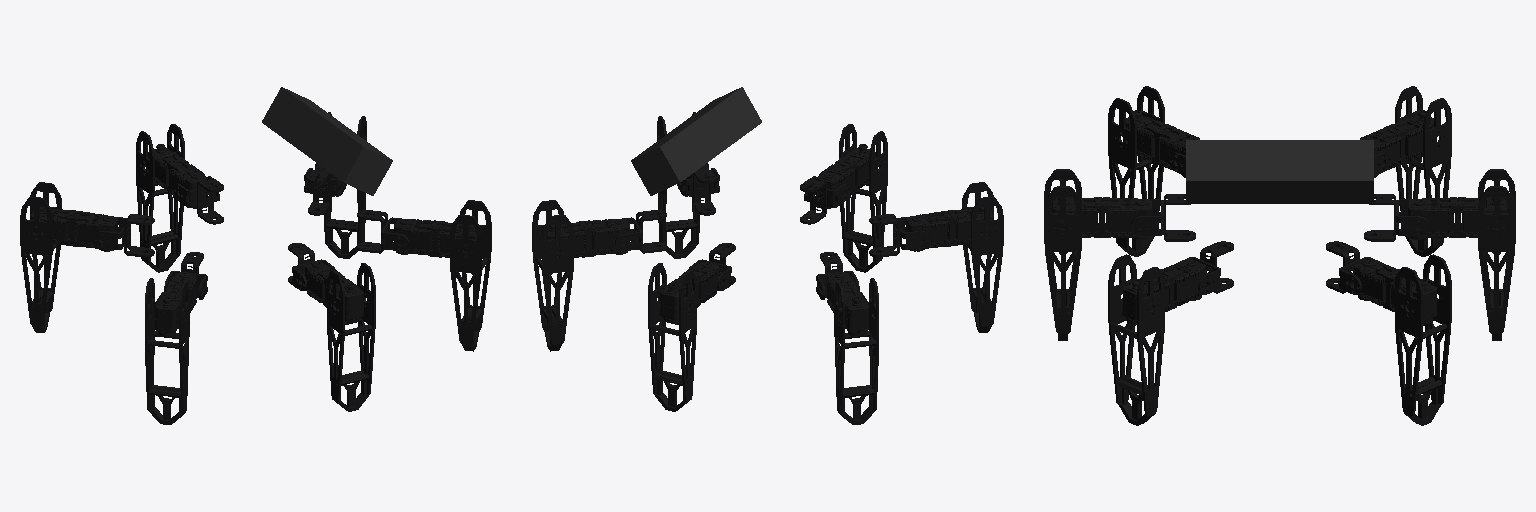
--- What the picture shows (computed from the rendered views, not written in the file) ---
The picture shows the robot from 3 angles, left to right: view 1: azimuth 30°, elevation 25°; view 2: azimuth 150°, elevation 25°; view 3: azimuth 270°, elevation 25°; orthographic projection.
Model phantomx with 28 links and 27 joints (18 revolute, 9 fixed), rooted at root_link, posed all joints at 0.
Links seen in each view (by area): view 1: kinect_link, BR_tibia_link, AR_tibia_link, CL_tibia_link, BL_tibia_link, CR_tibia_link, CL_femur_link, AR_femur_link, BR_femur_link, BL_femur_link, CR_femur_link, AL_tibia_link (+6 smaller); view 2: kinect_link, BL_tibia_link, AL_tibia_link, CR_tibia_link, BR_tibia_link, CL_tibia_link, CR_femur_link, AL_femur_link, BL_femur_link, BR_femur_link, CL_femur_link, AR_tibia_link (+6 smaller); view 3: kinect_link, AL_tibia_link, AR_tibia_link, BL_tibia_link, BR_tibia_link, CR_tibia_link, CL_tibia_link, BL_femur_link, BR_femur_link, AR_femur_link, AL_femur_link, CL_femur_link (+5 smaller).
Link boxes in pixels (left/top/right/bottom): kinect_link: left=262, top=87, right=392, bottom=195; BR_tibia_link: left=327, top=263, right=375, bottom=411; AR_tibia_link: left=450, top=200, right=491, bottom=351; CL_tibia_link: left=20, top=182, right=61, bottom=332; BL_tibia_link: left=136, top=124, right=184, bottom=272; CR_tibia_link: left=145, top=278, right=189, bottom=424; CL_femur_link: left=30, top=207, right=117, bottom=251; AR_femur_link: left=394, top=219, right=481, bottom=257; BR_femur_link: left=305, top=262, right=363, bottom=324; BL_femur_link: left=148, top=144, right=206, bottom=208; CR_femur_link: left=155, top=273, right=196, bottom=336; AL_tibia_link: left=323, top=112, right=366, bottom=258; kinect_link: left=631, top=87, right=761, bottom=195; BL_tibia_link: left=648, top=263, right=696, bottom=411; AL_tibia_link: left=532, top=200, right=573, bottom=351; CR_tibia_link: left=962, top=182, right=1003, bottom=332; BR_tibia_link: left=839, top=124, right=887, bottom=272; CL_tibia_link: left=834, top=278, right=878, bottom=424; CR_femur_link: left=906, top=207, right=993, bottom=251; AL_femur_link: left=542, top=219, right=629, bottom=257; BL_femur_link: left=660, top=262, right=718, bottom=323; BR_femur_link: left=817, top=144, right=875, bottom=208; CL_femur_link: left=827, top=273, right=868, bottom=337; AR_tibia_link: left=657, top=112, right=700, bottom=258; kinect_link: left=1186, top=140, right=1373, bottom=203; AL_tibia_link: left=1395, top=254, right=1451, bottom=425; AR_tibia_link: left=1108, top=254, right=1164, bottom=425; BL_tibia_link: left=1478, top=169, right=1515, bottom=340; BR_tibia_link: left=1044, top=169, right=1081, bottom=340; CR_tibia_link: left=1108, top=86, right=1164, bottom=256; CL_tibia_link: left=1395, top=86, right=1451, bottom=256; BL_femur_link: left=1408, top=197, right=1507, bottom=239; BR_femur_link: left=1052, top=197, right=1151, bottom=239; AR_femur_link: left=1122, top=259, right=1205, bottom=324; AL_femur_link: left=1354, top=259, right=1437, bottom=325; CL_femur_link: left=1360, top=110, right=1436, bottom=177.
Bounding box of the posed robot: 0.4861 × 0.502 × 0.2768 m (x, y, z).
18 mesh visuals loaded from 4 distinct referenced files (3 binary STL); not drawn: 1 (reference not matched to a file when rendering).

The robot description file, URDF, robot "phantomx":
<?xml version="1.0" ?>
<!-- =================================================================================== -->
<!-- |    This document was autogenerated by xacro from phantomx.xacro                 | -->
<!-- |    EDITING THIS FILE BY HAND IS NOT RECOMMENDED                                 | -->
<!-- =================================================================================== -->
<robot name="phantomx" xmlns:xacro="http://ros.org/wiki/xacro">
  <!-- ros_control plugin -->
  <gazebo>
    <plugin filename="libgazebo_ros_control.so" name="gazebo_ros_control">
      <!--robotNamespace>/phantomx</robotNamespace-->
      <robotSimType>gazebo_ros_control/DefaultRobotHWSim</robotSimType>
    </plugin>
  </gazebo>
  <!-- Base link -->
  <gazebo reference="base_link">
    <material>Gazebo/Black</material>
  </gazebo>
  <material name="black">
    <color rgba="0.13 0.13 0.13 1.0"/>
  </material>
  <material name="blue">
    <color rgba="0.0 0.0 0.8 1.0"/>
  </material>
  <material name="green">
    <color rgba="0.0 0.8 0.0 1.0"/>
  </material>
  <material name="grey">
    <color rgba="0.2 0.2 0.2 1.0"/>
  </material>
  <material name="orange">
    <color rgba="1.0 0.423529411765 0.0392156862745 1.0"/>
  </material>
  <material name="brown">
    <color rgba="0.870588235294 0.811764705882 0.764705882353 1.0"/>
  </material>
  <material name="red">
    <color rgba="0.8 0.0 0.0 1.0"/>
  </material>
  <material name="white">
    <color rgba="1.0 1.0 1.0 1.0"/>
  </material>
  <!-- Add a kinect sensor : first the visual/collision/inertial box -->
  <link name="kinect_link">
    <collision>
      <origin rpy="0 0 0" xyz="0 0 0"/>
      <geometry>
        <!-- coarse model; a simple box -->
        <box size="0.05 0.2 0.05"/>
      </geometry>
    </collision>
    <visual>
      <origin rpy="0 0 0" xyz="0 0 0"/>
      <geometry>
        <box size="0.05 0.2 0.05"/>
      </geometry>
      <material name="kinect_gray">
        <color rgba="0.2 0.2 0.2 1.0"/>
      </material>
    </visual>
    <inertial>
      <mass value="0.1"/>
      <origin rpy="0 0 0" xyz="0 0 0"/>
      <inertia ixx="0.001" ixy="0" ixz="0" iyy="0.001" iyz="0" izz="0.001"/>
    </inertial>
  </link>
  <!-- Position and orientation of the kinect sensor -->
  <joint name="kinect_joint" type="fixed">
    <axis xyz="0 1 0"/>
    <origin rpy="0.0 0.6 0" xyz="0.1 0.0 0.1"/>
    <parent link="base_link"/>
    <child link="kinect_link"/>
  </joint>
  <joint name="camera_optical_joint" type="fixed">
    <!--Don't change these values, otherwise the gazebo camera image won't be aligned properly with the frame it is supposedly originating from-->
    <origin rpy="-1.57079632679 0 -1.57079632679" xyz="0 0 0"/>
    <parent link="kinect_link"/>
    <child link="camera_link_optical"/>
  </joint>
  <link name="camera_link_optical">
	</link>
  <!--Add kinect sensor emulation-->
  <gazebo reference="kinect_link">
    <sensor name="camera_1" type="depth">
      <always_on>1</always_on>
      <visualize>true</visualize>
      <camera>
        <horizontal_fov>1.047</horizontal_fov>
        <image>
          <width>640</width>
          <height>480</height>
          <format>R8G8B8</format>
        </image>
        <depth_camera>
				</depth_camera>
        <clip>
          <near>0.1</near>
          <far>100</far>
        </clip>
      </camera>
      <plugin filename="libgazebo_ros_openni_kinect.so" name="camera_controller">
        <alwaysOn>true</alwaysOn>
        <updateRate>10.0</updateRate>
        <cameraName>kinect</cameraName>
        <frameName>camera_link_optical</frameName>
        <imageTopicName>rgb/image_raw</imageTopicName>
        <depthImageTopicName>depth/image_raw</depthImageTopicName>
        <pointCloudTopicName>depth/points</pointCloudTopicName>
        <cameraInfoTopicName>rgb/camera_info</cameraInfoTopicName>
        <depthImageCameraInfoTopicName>depht/camera_info</depthImageCameraInfoTopicName>
        <pointCloudCutoff>0.4</pointCloudCutoff>
        <hackBaseline>0.07</hackBaseline>
        <distortionK1>0.0</distortionK1>
        <distortionK2>0.0</distortionK2>
        <distortionK3>0.0</distortionK3>
        <distortionT1>0.0</distortionT1>
        <distortionT2>0.0</distortionT2>
        <CxPrime>0.0</CxPrime>
        <Cx>0.0</Cx>
        <Cy>0.0</Cy>
        <focalLength>0.0</focalLength>
      </plugin>
    </sensor>
  </gazebo>
  <!-- Root link -->
  <link name="root_link"/>
  <!-- Base link -->
  <link name="base_link">
    <visual>
      <geometry>
        <mesh filename="package://phantomx_description/meshes/base_link.stl"/>
      </geometry>
      <origin rpy="0 0 0" xyz="0 0 0"/>
      <material name="black"/>
    </visual>
    <collision>
      <geometry>
        <mesh filename="package://phantomx_description/meshes/base_link_simple.stl"/>
      </geometry>
      <origin rpy="0 0 0" xyz="0 0 0"/>
    </collision>
    <inertial>
      <origin xyz="0 0 0"/>
      <mass value="0.97559947"/>
      <inertia ixx="3.1081800" ixy="-0.25460189" ixz="2.0318174" iyy="6.3787776" iyz="0.16417863" izz="5.3316425"/>
    </inertial>
  </link>
  <joint name="root_joint" type="fixed">
    <parent link="root_link"/>
    <child link="base_link"/>
    <origin xyz="0 0 0"/>
  </joint>
  <link name="AL_coxa_link">
    <visual>
      <geometry>
        <mesh filename="package://phantomx_description/meshes/coxa_link.STL"/>
      </geometry>
      <origin rpy="0 0 0" xyz="0 0 0"/>
      <material name="black"/>
    </visual>
    <collision>
      <geometry>
        <mesh filename="package://phantomx_description/meshes/coxa_link_simple.STL"/>
      </geometry>
      <origin rpy="0 0 0" xyz="0 0 0"/>
    </collision>
    <inertial>
      <origin xyz="0.024001547 0 0"/>
      <mass value="0.01096414"/>
      <inertia ixx="0.01" ixy="0.0" ixz="0.0" iyy="0.01" iyz="0.0" izz="0.01"/>
    </inertial>
  </link>
  <link name="AL_femur_link">
    <visual>
      <geometry>
        <mesh filename="package://phantomx_description/meshes/femur_link.STL"/>
      </geometry>
      <origin rpy="0 0 0" xyz="0 0 0"/>
      <material name="black"/>
    </visual>
    <collision>
      <geometry>
        <mesh filename="package://phantomx_description/meshes/femur_link_simple.STL"/>
      </geometry>
      <origin rpy="0 0 0" xyz="0 0 0"/>
    </collision>
    <inertial>
      <origin xyz="0.04208275 0.00000123 -0.00098111"/>
      <mass value="0.12147677"/>
      <inertia ixx="0.01" ixy="0.0" ixz="0" iyy="0.01" iyz="0.0" izz="0.01"/>
    </inertial>
  </link>
  <link name="AL_tibia_link">
    <visual>
      <geometry>
        <mesh filename="package://phantomx_description/meshes/tibia_link.STL"/>
      </geometry>
      <origin rpy="0 0 0" xyz="0 0 0"/>
      <material name="black"/>
    </visual>
    <collision>
      <geometry>
        <mesh filename="package://phantomx_description/meshes/tibia_link_simple.STL"/>
      </geometry>
      <origin rpy="0 0 0" xyz="0 0 0"/>
    </collision>
    <inertial>
      <origin xyz="0.05151483 0 0"/>
      <mass value="0.03741374"/>
      <inertia ixx="0.01" ixy="0.0" ixz="0.0" iyy="0.01" iyz="0.0" izz="0.01"/>
    </inertial>
  </link>
  <link name="AL_foot_link"/>
  <joint name="AL_coxa_joint" type="revolute">
    <parent link="base_link"/>
    <child link="AL_coxa_link"/>
    <limit effort="1000.0" lower="-3.14" upper="3.14" velocity="1.0"/>
    <axis xyz="0 0 1"/>
    <origin rpy="0 0 0.7853981635" xyz="0.12 0.06 0"/>
    <dynamics damping="1.5" friction="1.5"/>
  </joint>
  <joint name="AL_femur_joint" type="revolute">
    <parent link="AL_coxa_link"/>
    <child link="AL_femur_link"/>
    <limit effort="1000.0" lower="-1.5707" upper="1.5707" velocity="1.0"/>
    <axis xyz="0 0 -1"/>
    <origin rpy="1.5707 0 0" xyz="0.048 0 0"/>
    <dynamics damping="1.5" friction="1.5"/>
  </joint>
  <joint name="AL_tibia_joint" type="revolute">
    <parent link="AL_femur_link"/>
    <child link="AL_tibia_link"/>
    <limit effort="1000.0" lower="-2.3562" upper="2.3562" velocity="1.0"/>
    <axis xyz="0 0 1"/>
    <origin rpy="0 0 -1.570796327" xyz="0.083 0 0"/>
    <dynamics damping="1.5" friction="1.5"/>
  </joint>
  <joint name="AL_foot_joint" type="fixed">
    <parent link="AL_tibia_link"/>
    <child link="AL_foot_link"/>
    <limit effort="1000.0" lower="-2.3562" upper="2.3562" velocity="1.0"/>
    <axis xyz="1 0 0"/>
    <origin rpy="0 0 0" xyz="0.143 0 0"/>
  </joint>
  <transmission name="tran_AL_coxa">
    <type>transmission_interface/SimpleTransmission</type>
    <joint name="AL_coxa_joint">
      <hardwareInterface>hardware_interface/EffortJointInterface</hardwareInterface>
    </joint>
    <actuator name="motor_AL_coxa">
      <hardwareInterface>hardware_interface/EffortJointInterface</hardwareInterface>
      <mechanicalReduction>50</mechanicalReduction>
    </actuator>
  </transmission>
  <transmission name="tran_AL_femur">
    <type>transmission_interface/SimpleTransmission</type>
    <joint name="AL_femur_joint">
      <hardwareInterface>hardware_interface/EffortJointInterface</hardwareInterface>
    </joint>
    <actuator name="motor_AL_femur">
      <hardwareInterface>hardware_interface/EffortJointInterface</hardwareInterface>
      <mechanicalReduction>50</mechanicalReduction>
    </actuator>
  </transmission>
  <transmission name="tran_AL_tibia">
    <type>transmission_interface/SimpleTransmission</type>
    <joint name="AL_tibia_joint">
      <hardwareInterface>hardware_interface/EffortJointInterface</hardwareInterface>
    </joint>
    <actuator name="motor_AL_tibia">
      <hardwareInterface>hardware_interface/EffortJointInterface</hardwareInterface>
      <mechanicalReduction>50</mechanicalReduction>
    </actuator>
  </transmission>
  <gazebo reference="AL_coxa_link">
    <material>Gazebo/Black</material>
    <mu1>0.8</mu1>
    <mu2>0.6</mu2>
    <kp>100</kp>
    <kd>10</kd>
    <gravity>True</gravity>
  </gazebo>
  <gazebo reference="AL_femur_link">
    <material>Gazebo/Black</material>
    <mu1>0.8</mu1>
    <mu2>0.6</mu2>
    <kp>100</kp>
    <kd>10</kd>
    <gravity>True</gravity>
  </gazebo>
  <gazebo reference="AL_tibia_link">
    <material>Gazebo/Black</material>
    <mu1>0.8</mu1>
    <mu2>0.6</mu2>
    <kp>1000</kp>
    <kd>100</kd>
    <gravity>True</gravity>
  </gazebo>
  <gazebo reference="AL_tibia_link">
    <sensor name="AL_foot_contact_sensor" type="contact">
      <always_on>true</always_on>
      <update_rate>30</update_rate>
      <contact>
        <collision>AL_collision</collision>
      </contact>
      <plugin filename="libgazebo_ros_bumper.so" name="gripper_bumper">
        <bumperTopicName>AL_foot_contact_sensor_state</bumperTopicName>
        <frameName>AL_foot</frameName>
      </plugin>
    </sensor>
  </gazebo>
  <link name="AR_coxa_link">
    <visual>
      <geometry>
        <mesh filename="package://phantomx_description/meshes/coxa_link.STL"/>
      </geometry>
      <origin rpy="0 0 0" xyz="0 0 0"/>
      <material name="black"/>
    </visual>
    <collision>
      <geometry>
        <mesh filename="package://phantomx_description/meshes/coxa_link_simple.STL"/>
      </geometry>
      <origin rpy="0 0 0" xyz="0 0 0"/>
    </collision>
    <inertial>
      <origin xyz="0.024001547 0 0"/>
      <mass value="0.01096414"/>
      <inertia ixx="0.01" ixy="0.0" ixz="0.0" iyy="0.01" iyz="0.0" izz="0.01"/>
    </inertial>
  </link>
  <link name="AR_femur_link">
    <visual>
      <geometry>
        <mesh filename="package://phantomx_description/meshes/femur_link.STL"/>
      </geometry>
      <origin rpy="0 0 0" xyz="0 0 0"/>
      <material name="black"/>
    </visual>
    <collision>
      <geometry>
        <mesh filename="package://phantomx_description/meshes/femur_link_simple.STL"/>
      </geometry>
      <origin rpy="0 0 0" xyz="0 0 0"/>
    </collision>
    <inertial>
      <origin xyz="0.04208275 0.00000123 -0.00098111"/>
      <mass value="0.12147677"/>
      <inertia ixx="0.01" ixy="0.0" ixz="0" iyy="0.01" iyz="0.0" izz="0.01"/>
    </inertial>
  </link>
  <link name="AR_tibia_link">
    <visual>
      <geometry>
        <mesh filename="package://phantomx_description/meshes/tibia_link.STL"/>
      </geometry>
      <origin rpy="0 0 0" xyz="0 0 0"/>
      <material name="black"/>
    </visual>
    <collision>
      <geometry>
        <mesh filename="package://phantomx_description/meshes/tibia_link_simple.STL"/>
      </geometry>
      <origin rpy="0 0 0" xyz="0 0 0"/>
    </collision>
    <inertial>
      <origin xyz="0.05151483 0 0"/>
      <mass value="0.03741374"/>
      <inertia ixx="0.01" ixy="0.0" ixz="0.0" iyy="0.01" iyz="0.0" izz="0.01"/>
    </inertial>
  </link>
  <link name="AR_foot_link"/>
  <joint name="AR_coxa_joint" type="revolute">
    <parent link="base_link"/>
    <child link="AR_coxa_link"/>
    <limit effort="1000.0" lower="-3.14" upper="3.14" velocity="1.0"/>
    <axis xyz="0 0 1"/>
    <origin rpy="0 0 -0.7853981635" xyz="0.12 -0.06 0"/>
    <dynamics damping="1.5" friction="1.5"/>
  </joint>
  <joint name="AR_femur_joint" type="revolute">
    <parent link="AR_coxa_link"/>
    <child link="AR_femur_link"/>
    <limit effort="1000.0" lower="-1.5707" upper="1.5707" velocity="1.0"/>
    <axis xyz="0 0 1"/>
    <origin rpy="1.5707 0 0" xyz="0.048 0 0"/>
    <dynamics damping="1.5" friction="1.5"/>
  </joint>
  <joint name="AR_tibia_joint" type="revolute">
    <parent link="AR_femur_link"/>
    <child link="AR_tibia_link"/>
    <limit effort="1000.0" lower="-2.3562" upper="2.3562" velocity="1.0"/>
    <axis xyz="0 0 -1"/>
    <origin rpy="0 0 -1.570796327" xyz="0.083 0 0"/>
    <dynamics damping="1.5" friction="1.5"/>
  </joint>
  <joint name="AR_foot_joint" type="fixed">
    <parent link="AR_tibia_link"/>
    <child link="AR_foot_link"/>
    <limit effort="1000.0" lower="-2.3562" upper="2.3562" velocity="1.0"/>
    <axis xyz="1 0 0"/>
    <origin rpy="0 0 0" xyz="0.143 0 0"/>
  </joint>
  <transmission name="tran_AR_coxa">
    <type>transmission_interface/SimpleTransmission</type>
    <joint name="AR_coxa_joint">
      <hardwareInterface>hardware_interface/EffortJointInterface</hardwareInterface>
    </joint>
    <actuator name="motor_AR_coxa">
      <hardwareInterface>hardware_interface/EffortJointInterface</hardwareInterface>
      <mechanicalReduction>50</mechanicalReduction>
    </actuator>
  </transmission>
  <transmission name="tran_AR_femur">
    <type>transmission_interface/SimpleTransmission</type>
    <joint name="AR_femur_joint">
      <hardwareInterface>hardware_interface/EffortJointInterface</hardwareInterface>
    </joint>
    <actuator name="motor_AR_femur">
      <hardwareInterface>hardware_interface/EffortJointInterface</hardwareInterface>
      <mechanicalReduction>50</mechanicalReduction>
    </actuator>
  </transmission>
  <transmission name="tran_AR_tibia">
    <type>transmission_interface/SimpleTransmission</type>
    <joint name="AR_tibia_joint">
      <hardwareInterface>hardware_interface/EffortJointInterface</hardwareInterface>
    </joint>
    <actuator name="motor_AR_tibia">
      <hardwareInterface>hardware_interface/EffortJointInterface</hardwareInterface>
      <mechanicalReduction>50</mechanicalReduction>
    </actuator>
  </transmission>
  <gazebo reference="AR_coxa_link">
    <material>Gazebo/Black</material>
    <mu1>0.8</mu1>
    <mu2>0.6</mu2>
    <kp>100</kp>
    <kd>10</kd>
    <gravity>True</gravity>
  </gazebo>
  <gazebo reference="AR_femur_link">
    <material>Gazebo/Black</material>
    <mu1>0.8</mu1>
    <mu2>0.6</mu2>
    <kp>100</kp>
    <kd>10</kd>
    <gravity>True</gravity>
  </gazebo>
  <gazebo reference="AR_tibia_link">
    <material>Gazebo/Black</material>
    <mu1>0.8</mu1>
    <mu2>0.6</mu2>
    <kp>1000</kp>
    <kd>100</kd>
    <gravity>True</gravity>
  </gazebo>
  <gazebo reference="AR_tibia_link">
    <sensor name="AR_foot_contact_sensor" type="contact">
      <always_on>true</always_on>
      <update_rate>30</update_rate>
      <contact>
        <collision>AR_collision</collision>
      </contact>
      <plugin filename="libgazebo_ros_bumper.so" name="gripper_bumper">
        <bumperTopicName>AR_foot_contact_sensor_state</bumperTopicName>
        <frameName>AR_foot</frameName>
      </plugin>
    </sensor>
  </gazebo>
  <link name="BL_coxa_link">
    <visual>
      <geometry>
        <mesh filename="package://phantomx_description/meshes/coxa_link.STL"/>
      </geometry>
      <origin rpy="0 0 0" xyz="0 0 0"/>
      <material name="black"/>
    </visual>
    <collision>
      <geometry>
        <mesh filename="package://phantomx_description/meshes/coxa_link_simple.STL"/>
      </geometry>
      <origin rpy="0 0 0" xyz="0 0 0"/>
    </collision>
    <inertial>
      <origin xyz="0.024001547 0 0"/>
      <mass value="0.01096414"/>
      <inertia ixx="0.01" ixy="0.0" ixz="0.0" iyy="0.01" iyz="0.0" izz="0.01"/>
    </inertial>
  </link>
  <link name="BL_femur_link">
    <visual>
      <geometry>
        <mesh filename="package://phantomx_description/meshes/femur_link.STL"/>
      </geometry>
      <origin rpy="0 0 0" xyz="0 0 0"/>
      <material name="black"/>
    </visual>
    <collision>
      <geometry>
        <mesh filename="package://phantomx_description/meshes/femur_link_simple.STL"/>
      </geometry>
      <origin rpy="0 0 0" xyz="0 0 0"/>
    </collision>
    <inertial>
      <origin xyz="0.04208275 0.00000123 -0.00098111"/>
      <mass value="0.12147677"/>
      <inertia ixx="0.01" ixy="0.0" ixz="0" iyy="0.01" iyz="0.0" izz="0.01"/>
    </inertial>
  </link>
  <link name="BL_tibia_link">
    <visual>
      <geometry>
        <mesh filename="package://phantomx_description/meshes/tibia_link.STL"/>
      </geometry>
      <origin rpy="0 0 0" xyz="0 0 0"/>
      <material name="black"/>
    </visual>
    <collision>
      <geometry>
        <mesh filename="package://phantomx_description/meshes/tibia_link_simple.STL"/>
      </geometry>
      <origin rpy="0 0 0" xyz="0 0 0"/>
    </collision>
    <inertial>
      <origin xyz="0.05151483 0 0"/>
      <mass value="0.03741374"/>
      <inertia ixx="0.01" ixy="0.0" ixz="0.0" iyy="0.01" iyz="0.0" izz="0.01"/>
    </inertial>
  </link>
  <link name="BL_foot_link"/>
  <joint name="BL_coxa_joint" type="revolute">
    <parent link="base_link"/>
    <child link="BL_coxa_link"/>
    <limit effort="1000.0" lower="-3.14" upper="3.14" velocity="1.0"/>
    <axis xyz="0 0 1"/>
    <origin rpy="0 0 1.570796327" xyz="0 0.1 0"/>
    <dynamics damping="1.5" friction="1.5"/>
  </joint>
  <joint name="BL_femur_joint" type="revolute">
    <parent link="BL_coxa_link"/>
    <child link="BL_femur_link"/>
    <limit effort="1000.0" lower="-1.5707" upper="1.5707" velocity="1.0"/>
    <axis xyz="0 0 -1"/>
    <origin rpy="1.5707 0 0" xyz="0.048 0 0"/>
    <dynamics damping="1.5" friction="1.5"/>
  </joint>
  <joint name="BL_tibia_joint" type="revolute">
    <parent link="BL_femur_link"/>
    <child link="BL_tibia_link"/>
    <limit effort="1000.0" lower="-2.3562" upper="2.3562" velocity="1.0"/>
    <axis xyz="0 0 1"/>
    <origin rpy="0 0 -1.570796327" xyz="0.083 0 0"/>
    <dynamics damping="1.5" friction="1.5"/>
  </joint>
  <joint name="BL_foot_joint" type="fixed">
    <parent link="BL_tibia_link"/>
    <child link="BL_foot_link"/>
    <limit effort="1000.0" lower="-2.3562" upper="2.3562" velocity="1.0"/>
    <axis xyz="1 0 0"/>
    <origin rpy="0 0 0" xyz="0.143 0 0"/>
  </joint>
  <transmission name="tran_BL_coxa">
    <type>transmission_interface/SimpleTransmission</type>
    <joint name="BL_coxa_joint">
      <hardwareInterface>hardware_interface/EffortJointInterface</hardwareInterface>
    </joint>
    <actuator name="motor_BL_coxa">
      <hardwareInterface>hardware_interface/EffortJointInterface</hardwareInterface>
      <mechanicalReduction>50</mechanicalReduction>
    </actuator>
  </transmission>
  <transmission name="tran_BL_femur">
    <type>transmission_interface/SimpleTransmission</type>
    <joint name="BL_femur_joint">
      <hardwareInterface>hardware_interface/EffortJointInterface</hardwareInterface>
    </joint>
    <actuator name="motor_BL_femur">
      <hardwareInterface>hardware_interface/EffortJointInterface</hardwareInterface>
      <mechanicalReduction>50</mechanicalReduction>
    </actuator>
  </transmission>
  <transmission name="tran_BL_tibia">
    <type>transmission_interface/SimpleTransmission</type>
    <joint name="BL_tibia_joint">
      <hardwareInterface>hardware_interface/EffortJointInterface</hardwareInterface>
    </joint>
    <actuator name="motor_BL_tibia">
      <hardwareInterface>hardware_interface/EffortJointInterface</hardwareInterface>
      <mechanicalReduction>50</mechanicalReduction>
    </actuator>
  </transmission>
  <gazebo reference="BL_coxa_link">
    <material>Gazebo/Black</material>
    <mu1>0.8</mu1>
    <mu2>0.6</mu2>
    <kp>100</kp>
    <kd>10</kd>
    <gravity>True</gravity>
  </gazebo>
  <gazebo reference="BL_femur_link">
    <material>Gazebo/Black</material>
    <mu1>0.8</mu1>
    <mu2>0.6</mu2>
    <kp>100</kp>
    <kd>10</kd>
    <gravity>True</gravity>
  </gazebo>
  <gazebo reference="BL_tibia_link">
    <material>Gazebo/Black</material>
    <mu1>0.8</mu1>
    <mu2>0.6</mu2>
    <kp>1000</kp>
    <kd>100</kd>
    <gravity>True</gravity>
  </gazebo>
  <gazebo reference="BL_tibia_link">
    <sensor name="BL_foot_contact_sensor" type="contact">
      <always_on>true</always_on>
      <update_rate>30</update_rate>
      <contact>
        <collision>BL_collision</collision>
      </contact>
      <plugin filename="libgazebo_ros_bumper.so" name="gripper_bumper">
        <bumperTopicName>BL_foot_contact_sensor_state</bumperTopicName>
        <frameName>BL_foot</frameName>
      </plugin>
    </sensor>
  </gazebo>
  <link name="BR_coxa_link">
    <visual>
      <geometry>
        <mesh filename="package://phantomx_description/meshes/coxa_link.STL"/>
      </geometry>
      <origin rpy="0 0 0" xyz="0 0 0"/>
      <material name="black"/>
    </visual>
    <collision>
      <geometry>
        <mesh filename="package://phantomx_description/meshes/coxa_link_simple.STL"/>
      </geometry>
      <origin rpy="0 0 0" xyz="0 0 0"/>
    </collision>
    <inertial>
      <origin xyz="0.024001547 0 0"/>
      <mass value="0.01096414"/>
      <inertia ixx="0.01" ixy="0.0" ixz="0.0" iyy="0.01" iyz="0.0" izz="0.01"/>
    </inertial>
  </link>
  <link name="BR_femur_link">
    <visual>
      <geometry>
        <mesh filename="package://phantomx_description/meshes/femur_link.STL"/>
      </geometry>
      <origin rpy="0 0 0" xyz="0 0 0"/>
      <material name="black"/>
    </visual>
    <collision>
      <geometry>
        <mesh filename="package://phantomx_description/meshes/femur_link_simple.STL"/>
      </geometry>
      <origin rpy="0 0 0" xyz="0 0 0"/>
    </collision>
    <inertial>
      <origin xyz="0.04208275 0.00000123 -0.00098111"/>
      <mass value="0.12147677"/>
      <inertia ixx="0.01" ixy="0.0" ixz="0" iyy="0.01" iyz="0.0" izz="0.01"/>
    </inertial>
  </link>
  <link name="BR_tibia_link">
    <visual>
      <geometry>
        <mesh filename="package://phantomx_description/meshes/tibia_link.STL"/>
      </geometry>
      <origin rpy="0 0 0" xyz="0 0 0"/>
      <material name="black"/>
    </visual>
    <collision>
      <geometry>
        <mesh filename="package://phantomx_description/meshes/tibia_link_simple.STL"/>
      </geometry>
      <origin rpy="0 0 0" xyz="0 0 0"/>
    </collision>
    <inertial>
      <origin xyz="0.05151483 0 0"/>
      <mass value="0.03741374"/>
      <inertia ixx="0.01" ixy="0.0" ixz="0.0" iyy="0.01" iyz="0.0" izz="0.01"/>
    </inertial>
  </link>
  <link name="BR_foot_link"/>
  <joint name="BR_coxa_joint" type="revolute">
    <parent link="base_link"/>
    <child link="BR_coxa_link"/>
    <limit effort="1000.0" lower="-3.14" upper="3.14" velocity="1.0"/>
    <axis xyz="0 0 1"/>
    <origin rpy="0 0 -1.570796327" xyz="0 -0.1 0"/>
    <dynamics damping="1.5" friction="1.5"/>
  </joint>
  <joint name="BR_femur_joint" type="revolute">
    <parent link="BR_coxa_link"/>
    <child link="BR_femur_link"/>
    <limit effort="1000.0" lower="-1.5707" upper="1.5707" velocity="1.0"/>
    <axis xyz="0 0 1"/>
    <origin rpy="1.5707 0 0" xyz="0.048 0 0"/>
    <dynamics damping="1.5" friction="1.5"/>
  </joint>
  <joint name="BR_tibia_joint" type="revolute">
    <parent link="BR_femur_link"/>
    <child link="BR_tibia_link"/>
    <limit effort="1000.0" lower="-2.3562" upper="2.3562" velocity="1.0"/>
    <axis xyz="0 0 -1"/>
    <origin rpy="0 0 -1.570796327" xyz="0.083 0 0"/>
    <dynamics damping="1.5" friction="1.5"/>
  </joint>
  <joint name="BR_foot_joint" type="fixed">
    <parent link="BR_tibia_link"/>
    <child link="BR_foot_link"/>
    <limit effort="1000.0" lower="-2.3562" upper="2.3562" velocity="1.0"/>
    <axis xyz="1 0 0"/>
    <origin rpy="0 0 0" xyz="0.143 0 0"/>
  </joint>
  <transmission name="tran_BR_coxa">
    <type>transmission_interface/SimpleTransmission</type>
    <joint name="BR_coxa_joint">
      <hardwareInterface>hardware_interface/EffortJointInterface</hardwareInterface>
    </joint>
    <actuator name="motor_BR_coxa">
      <hardwareInterface>hardware_interface/EffortJointInterface</hardwareInterface>
      <mechanicalReduction>50</mechanicalReduction>
    </actuator>
  </transmission>
  <transmission name="tran_BR_femur">
    <type>transmission_interface/SimpleTransmission</type>
    <joint name="BR_femur_joint">
      <hardwareInterface>hardware_interface/EffortJointInterface</hardwareInterface>
    </joint>
    <actuator name="motor_BR_femur">
      <hardwareInterface>hardware_interface/EffortJointInterface</hardwareInterface>
      <mechanicalReduction>50</mechanicalReduction>
    </actuator>
  </transmission>
  <transmission name="tran_BR_tibia">
    <type>transmission_interface/SimpleTransmission</type>
    <joint name="BR_tibia_joint">
      <hardwareInterface>hardware_interface/EffortJointInterface</hardwareInterface>
    </joint>
    <actuator name="motor_BR_tibia">
      <hardwareInterface>hardware_interface/EffortJointInterface</hardwareInterface>
      <mechanicalReduction>50</mechanicalReduction>
    </actuator>
  </transmission>
  <gazebo reference="BR_coxa_link">
    <material>Gazebo/Black</material>
    <mu1>0.8</mu1>
    <mu2>0.6</mu2>
    <kp>100</kp>
    <kd>10</kd>
    <gravity>True</gravity>
  </gazebo>
  <gazebo reference="BR_femur_link">
    <material>Gazebo/Black</material>
    <mu1>0.8</mu1>
    <mu2>0.6</mu2>
    <kp>100</kp>
    <kd>10</kd>
    <gravity>True</gravity>
  </gazebo>
  <gazebo reference="BR_tibia_link">
    <material>Gazebo/Black</material>
    <mu1>0.8</mu1>
    <mu2>0.6</mu2>
    <kp>1000</kp>
    <kd>100</kd>
    <gravity>True</gravity>
  </gazebo>
  <gazebo reference="BR_tibia_link">
    <sensor name="BR_foot_contact_sensor" type="contact">
      <always_on>true</always_on>
      <update_rate>30</update_rate>
      <contact>
        <collision>BR_collision</collision>
      </contact>
      <plugin filename="libgazebo_ros_bumper.so" name="gripper_bumper">
        <bumperTopicName>BR_foot_contact_sensor_state</bumperTopicName>
        <frameName>BR_foot</frameName>
      </plugin>
    </sensor>
  </gazebo>
  <link name="CL_coxa_link">
    <visual>
      <geometry>
        <mesh filename="package://phantomx_description/meshes/coxa_link.STL"/>
      </geometry>
      <origin rpy="0 0 0" xyz="0 0 0"/>
      <material name="black"/>
    </visual>
    <collision>
      <geometry>
        <mesh filename="package://phantomx_description/meshes/coxa_link_simple.STL"/>
      </geometry>
      <origin rpy="0 0 0" xyz="0 0 0"/>
    </collision>
    <inertial>
      <origin xyz="0.024001547 0 0"/>
      <mass value="0.01096414"/>
      <inertia ixx="0.01" ixy="0.0" ixz="0.0" iyy="0.01" iyz="0.0" izz="0.01"/>
    </inertial>
  </link>
  <link name="CL_femur_link">
    <visual>
      <geometry>
        <mesh filename="package://phantomx_description/meshes/femur_link.STL"/>
      </geometry>
      <origin rpy="0 0 0" xyz="0 0 0"/>
      <material name="black"/>
    </visual>
    <collision>
      <geometry>
        <mesh filename="package://phantomx_description/meshes/femur_link_simple.STL"/>
      </geometry>
      <origin rpy="0 0 0" xyz="0 0 0"/>
    </collision>
    <inertial>
      <origin xyz="0.04208275 0.00000123 -0.00098111"/>
      <mass value="0.12147677"/>
      <inertia ixx="0.01" ixy="0.0" ixz="0" iyy="0.01" iyz="0.0" izz="0.01"/>
    </inertial>
  </link>
  <link name="CL_tibia_link">
    <visual>
      <geometry>
        <mesh filename="package://phantomx_description/meshes/tibia_link.STL"/>
      </geometry>
      <origin rpy="0 0 0" xyz="0 0 0"/>
      <material name="black"/>
    </visual>
    <collision>
      <geometry>
        <mesh filename="package://phantomx_description/meshes/tibia_link_simple.STL"/>
      </geometry>
      <origin rpy="0 0 0" xyz="0 0 0"/>
    </collision>
    <inertial>
      <origin xyz="0.05151483 0 0"/>
      <mass value="0.03741374"/>
      <inertia ixx="0.01" ixy="0.0" ixz="0.0" iyy="0.01" iyz="0.0" izz="0.01"/>
    </inertial>
  </link>
  <link name="CL_foot_link"/>
  <joint name="CL_coxa_joint" type="revolute">
    <parent link="base_link"/>
    <child link="CL_coxa_link"/>
    <limit effort="1000.0" lower="-3.14" upper="3.14" velocity="1.0"/>
    <axis xyz="0 0 1"/>
    <origin rpy="0 0 2.3561944905" xyz="-0.12 0.06 0"/>
    <dynamics damping="1.5" friction="1.5"/>
  </joint>
  <joint name="CL_femur_joint" type="revolute">
    <parent link="CL_coxa_link"/>
    <child link="CL_femur_link"/>
    <limit effort="1000.0" lower="-1.5707" upper="1.5707" velocity="1.0"/>
    <axis xyz="0 0 -1"/>
    <origin rpy="1.5707 0 0" xyz="0.048 0 0"/>
    <dynamics damping="1.5" friction="1.5"/>
  </joint>
  <joint name="CL_tibia_joint" type="revolute">
    <parent link="CL_femur_link"/>
    <child link="CL_tibia_link"/>
    <limit effort="1000.0" lower="-2.3562" upper="2.3562" velocity="1.0"/>
    <axis xyz="0 0 1"/>
    <origin rpy="0 0 -1.570796327" xyz="0.083 0 0"/>
    <dynamics damping="1.5" friction="1.5"/>
  </joint>
  <joint name="CL_foot_joint" type="fixed">
    <parent link="CL_tibia_link"/>
    <child link="CL_foot_link"/>
    <limit effort="1000.0" lower="-2.3562" upper="2.3562" velocity="1.0"/>
    <axis xyz="1 0 0"/>
    <origin rpy="0 0 0" xyz="0.143 0 0"/>
  </joint>
  <transmission name="tran_CL_coxa">
    <type>transmission_interface/SimpleTransmission</type>
    <joint name="CL_coxa_joint">
      <hardwareInterface>hardware_interface/EffortJointInterface</hardwareInterface>
    </joint>
    <actuator name="motor_CL_coxa">
      <hardwareInterface>hardware_interface/EffortJointInterface</hardwareInterface>
      <mechanicalReduction>50</mechanicalReduction>
    </actuator>
  </transmission>
  <transmission name="tran_CL_femur">
    <type>transmission_interface/SimpleTransmission</type>
    <joint name="CL_femur_joint">
      <hardwareInterface>hardware_interface/EffortJointInterface</hardwareInterface>
    </joint>
    <actuator name="motor_CL_femur">
      <hardwareInterface>hardware_interface/EffortJointInterface</hardwareInterface>
      <mechanicalReduction>50</mechanicalReduction>
    </actuator>
  </transmission>
  <transmission name="tran_CL_tibia">
    <type>transmission_interface/SimpleTransmission</type>
    <joint name="CL_tibia_joint">
      <hardwareInterface>hardware_interface/EffortJointInterface</hardwareInterface>
    </joint>
    <actuator name="motor_CL_tibia">
      <hardwareInterface>hardware_interface/EffortJointInterface</hardwareInterface>
      <mechanicalReduction>50</mechanicalReduction>
    </actuator>
  </transmission>
  <gazebo reference="CL_coxa_link">
    <material>Gazebo/Black</material>
    <mu1>0.8</mu1>
    <mu2>0.6</mu2>
    <kp>100</kp>
    <kd>10</kd>
    <gravity>True</gravity>
  </gazebo>
  <gazebo reference="CL_femur_link">
    <material>Gazebo/Black</material>
    <mu1>0.8</mu1>
    <mu2>0.6</mu2>
    <kp>100</kp>
    <kd>10</kd>
    <gravity>True</gravity>
  </gazebo>
  <gazebo reference="CL_tibia_link">
    <material>Gazebo/Black</material>
    <mu1>0.8</mu1>
    <mu2>0.6</mu2>
    <kp>1000</kp>
    <kd>100</kd>
    <gravity>True</gravity>
  </gazebo>
  <gazebo reference="CL_tibia_link">
    <sensor name="CL_foot_contact_sensor" type="contact">
      <always_on>true</always_on>
      <update_rate>30</update_rate>
      <contact>
        <collision>CL_collision</collision>
      </contact>
      <plugin filename="libgazebo_ros_bumper.so" name="gripper_bumper">
        <bumperTopicName>CL_foot_contact_sensor_state</bumperTopicName>
        <frameName>CL_foot</frameName>
      </plugin>
    </sensor>
  </gazebo>
  <link name="CR_coxa_link">
    <visual>
      <geometry>
        <mesh filename="package://phantomx_description/meshes/coxa_link.STL"/>
      </geometry>
      <origin rpy="0 0 0" xyz="0 0 0"/>
      <material name="black"/>
    </visual>
    <collision>
      <geometry>
        <mesh filename="package://phantomx_description/meshes/coxa_link_simple.STL"/>
      </geometry>
      <origin rpy="0 0 0" xyz="0 0 0"/>
    </collision>
    <inertial>
      <origin xyz="0.024001547 0 0"/>
      <mass value="0.01096414"/>
      <inertia ixx="0.01" ixy="0.0" ixz="0.0" iyy="0.01" iyz="0.0" izz="0.01"/>
    </inertial>
  </link>
  <link name="CR_femur_link">
    <visual>
      <geometry>
        <mesh filename="package://phantomx_description/meshes/femur_link.STL"/>
      </geometry>
      <origin rpy="0 0 0" xyz="0 0 0"/>
      <material name="black"/>
    </visual>
    <collision>
      <geometry>
        <mesh filename="package://phantomx_description/meshes/femur_link_simple.STL"/>
      </geometry>
      <origin rpy="0 0 0" xyz="0 0 0"/>
    </collision>
    <inertial>
      <origin xyz="0.04208275 0.00000123 -0.00098111"/>
      <mass value="0.12147677"/>
      <inertia ixx="0.01" ixy="0.0" ixz="0" iyy="0.01" iyz="0.0" izz="0.01"/>
    </inertial>
  </link>
  <link name="CR_tibia_link">
    <visual>
      <geometry>
        <mesh filename="package://phantomx_description/meshes/tibia_link.STL"/>
      </geometry>
      <origin rpy="0 0 0" xyz="0 0 0"/>
      <material name="black"/>
    </visual>
    <collision>
      <geometry>
        <mesh filename="package://phantomx_description/meshes/tibia_link_simple.STL"/>
      </geometry>
      <origin rpy="0 0 0" xyz="0 0 0"/>
    </collision>
    <inertial>
      <origin xyz="0.05151483 0 0"/>
      <mass value="0.03741374"/>
      <inertia ixx="0.01" ixy="0.0" ixz="0.0" iyy="0.01" iyz="0.0" izz="0.01"/>
    </inertial>
  </link>
  <link name="CR_foot_link"/>
  <joint name="CR_coxa_joint" type="revolute">
    <parent link="base_link"/>
    <child link="CR_coxa_link"/>
    <limit effort="1000.0" lower="-3.14" upper="3.14" velocity="1.0"/>
    <axis xyz="0 0 1"/>
    <origin rpy="0 0 -2.3561944905" xyz="-0.12 -0.06 0"/>
    <dynamics damping="1.5" friction="1.5"/>
  </joint>
  <joint name="CR_femur_joint" type="revolute">
    <parent link="CR_coxa_link"/>
    <child link="CR_femur_link"/>
    <limit effort="1000.0" lower="-1.5707" upper="1.5707" velocity="1.0"/>
    <axis xyz="0 0 1"/>
    <origin rpy="1.5707 0 0" xyz="0.048 0 0"/>
    <dynamics damping="1.5" friction="1.5"/>
  </joint>
  <joint name="CR_tibia_joint" type="revolute">
    <parent link="CR_femur_link"/>
    <child link="CR_tibia_link"/>
    <limit effort="1000.0" lower="-2.3562" upper="2.3562" velocity="1.0"/>
    <axis xyz="0 0 -1"/>
    <origin rpy="0 0 -1.570796327" xyz="0.083 0 0"/>
    <dynamics damping="1.5" friction="1.5"/>
  </joint>
  <joint name="CR_foot_joint" type="fixed">
    <parent link="CR_tibia_link"/>
    <child link="CR_foot_link"/>
    <limit effort="1000.0" lower="-2.3562" upper="2.3562" velocity="1.0"/>
    <axis xyz="1 0 0"/>
    <origin rpy="0 0 0" xyz="0.143 0 0"/>
  </joint>
  <transmission name="tran_CR_coxa">
    <type>transmission_interface/SimpleTransmission</type>
    <joint name="CR_coxa_joint">
      <hardwareInterface>hardware_interface/EffortJointInterface</hardwareInterface>
    </joint>
    <actuator name="motor_CR_coxa">
      <hardwareInterface>hardware_interface/EffortJointInterface</hardwareInterface>
      <mechanicalReduction>50</mechanicalReduction>
    </actuator>
  </transmission>
  <transmission name="tran_CR_femur">
    <type>transmission_interface/SimpleTransmission</type>
    <joint name="CR_femur_joint">
      <hardwareInterface>hardware_interface/EffortJointInterface</hardwareInterface>
    </joint>
    <actuator name="motor_CR_femur">
      <hardwareInterface>hardware_interface/EffortJointInterface</hardwareInterface>
      <mechanicalReduction>50</mechanicalReduction>
    </actuator>
  </transmission>
  <transmission name="tran_CR_tibia">
    <type>transmission_interface/SimpleTransmission</type>
    <joint name="CR_tibia_joint">
      <hardwareInterface>hardware_interface/EffortJointInterface</hardwareInterface>
    </joint>
    <actuator name="motor_CR_tibia">
      <hardwareInterface>hardware_interface/EffortJointInterface</hardwareInterface>
      <mechanicalReduction>50</mechanicalReduction>
    </actuator>
  </transmission>
  <gazebo reference="CR_coxa_link">
    <material>Gazebo/Black</material>
    <mu1>0.8</mu1>
    <mu2>0.6</mu2>
    <kp>100</kp>
    <kd>10</kd>
    <gravity>True</gravity>
  </gazebo>
  <gazebo reference="CR_femur_link">
    <material>Gazebo/Black</material>
    <mu1>0.8</mu1>
    <mu2>0.6</mu2>
    <kp>100</kp>
    <kd>10</kd>
    <gravity>True</gravity>
  </gazebo>
  <gazebo reference="CR_tibia_link">
    <material>Gazebo/Black</material>
    <mu1>0.8</mu1>
    <mu2>0.6</mu2>
    <kp>1000</kp>
    <kd>100</kd>
    <gravity>True</gravity>
  </gazebo>
  <gazebo reference="CR_tibia_link">
    <sensor name="CR_foot_contact_sensor" type="contact">
      <always_on>true</always_on>
      <update_rate>30</update_rate>
      <contact>
        <collision>CR_collision</collision>
      </contact>
      <plugin filename="libgazebo_ros_bumper.so" name="gripper_bumper">
        <bumperTopicName>CR_foot_contact_sensor_state</bumperTopicName>
        <frameName>CR_foot</frameName>
      </plugin>
    </sensor>
  </gazebo>
</robot>
